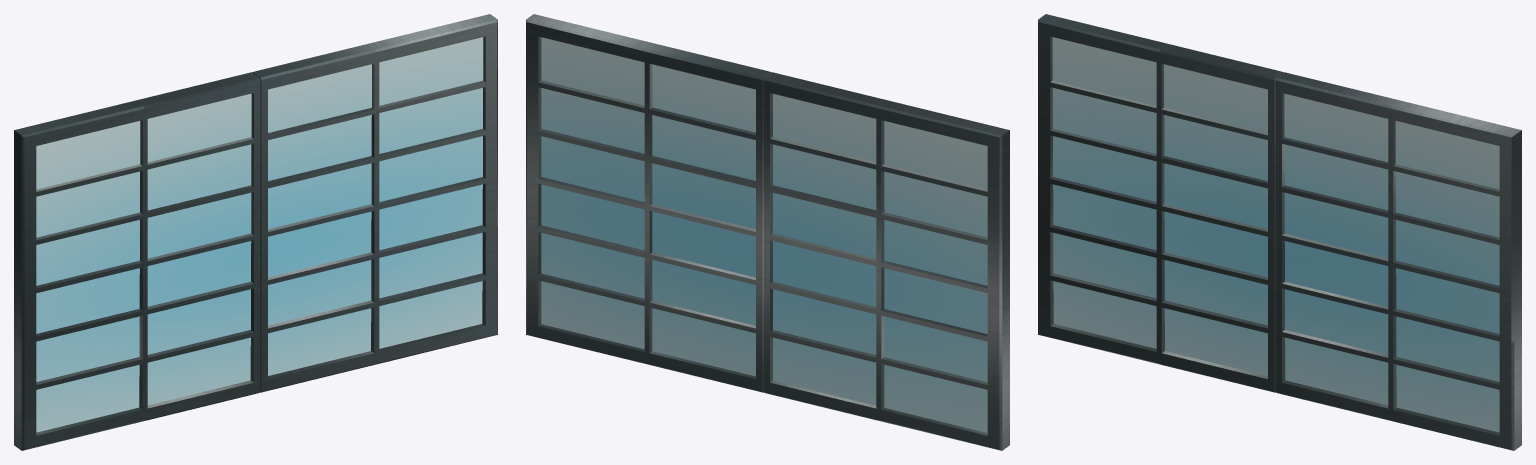
File: aws_DoorB_01_visual.DAE
3 renders of one model, left to right at view 1: azimuth 30°, elevation 25°; view 2: azimuth 150°, elevation 25°; view 3: azimuth 330°, elevation 25°, orthographic.
Parts seen in each view (by area): view 1: aws_DoorB_01_visual; view 2: aws_DoorB_01_visual; view 3: aws_DoorB_01_visual.
Part boxes in pixels (x1,y1,x2,y2): aws_DoorB_01_visual: [14, 14, 497, 450]; aws_DoorB_01_visual: [526, 14, 1009, 450]; aws_DoorB_01_visual: [1038, 14, 1521, 450].
Size of the model in its own units: 506 by 18.06 by 320.
